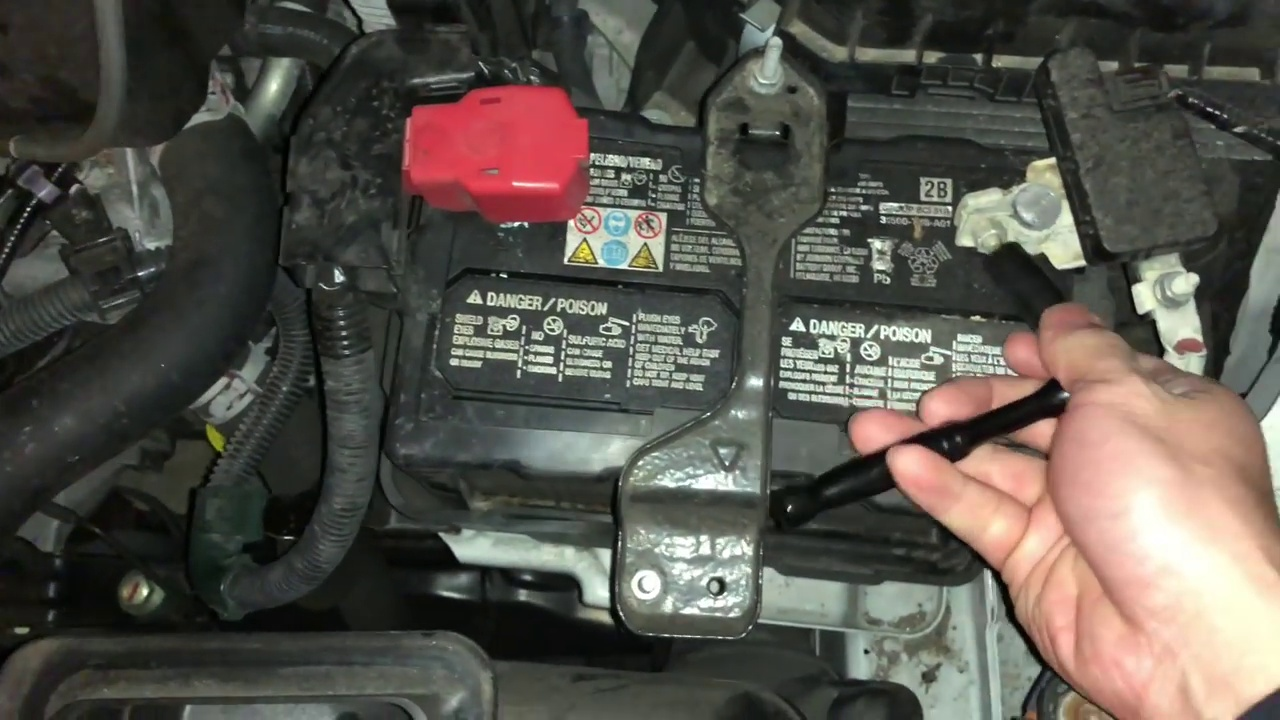battery: (393, 96, 1114, 541)
neg_connected: (941, 122, 1078, 271)
neg_touched: (948, 145, 1171, 515)
pos_connected: (401, 67, 604, 228)
